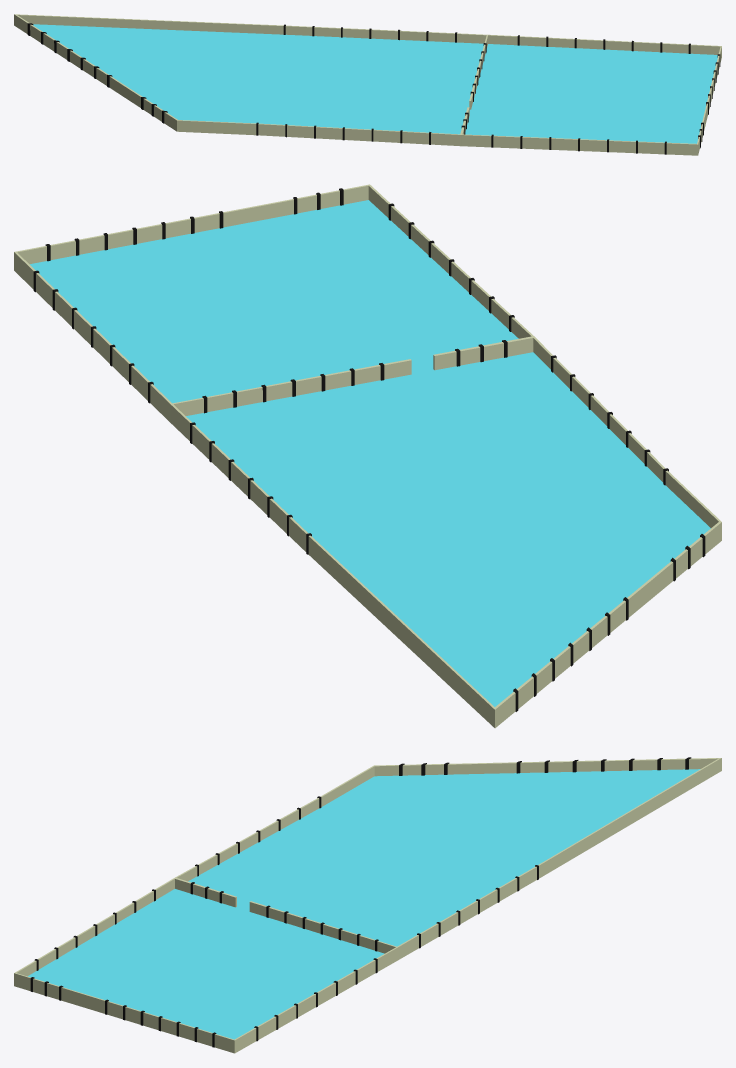
Rendered from SM_Yard3.fbx.
The picture shows the model from 3 angles, top to bottom: view 1: azimuth 30°, elevation 25°; view 2: azimuth 150°, elevation 25°; view 3: azimuth 270°, elevation 25°; orthographic projection. The views are drawn at different scales.
Visible parts, largest first — view 1: SM_Yard3; view 2: SM_Yard3; view 3: SM_Yard3.
Part boxes in pixels (x1=…): SM_Yard3: x1=14, y1=14, x2=721, y2=155; SM_Yard3: x1=14, y1=184, x2=721, y2=728; SM_Yard3: x1=14, y1=757, x2=721, y2=1053.
Size of the model in its own units: 17434 by 401 by 18452.
